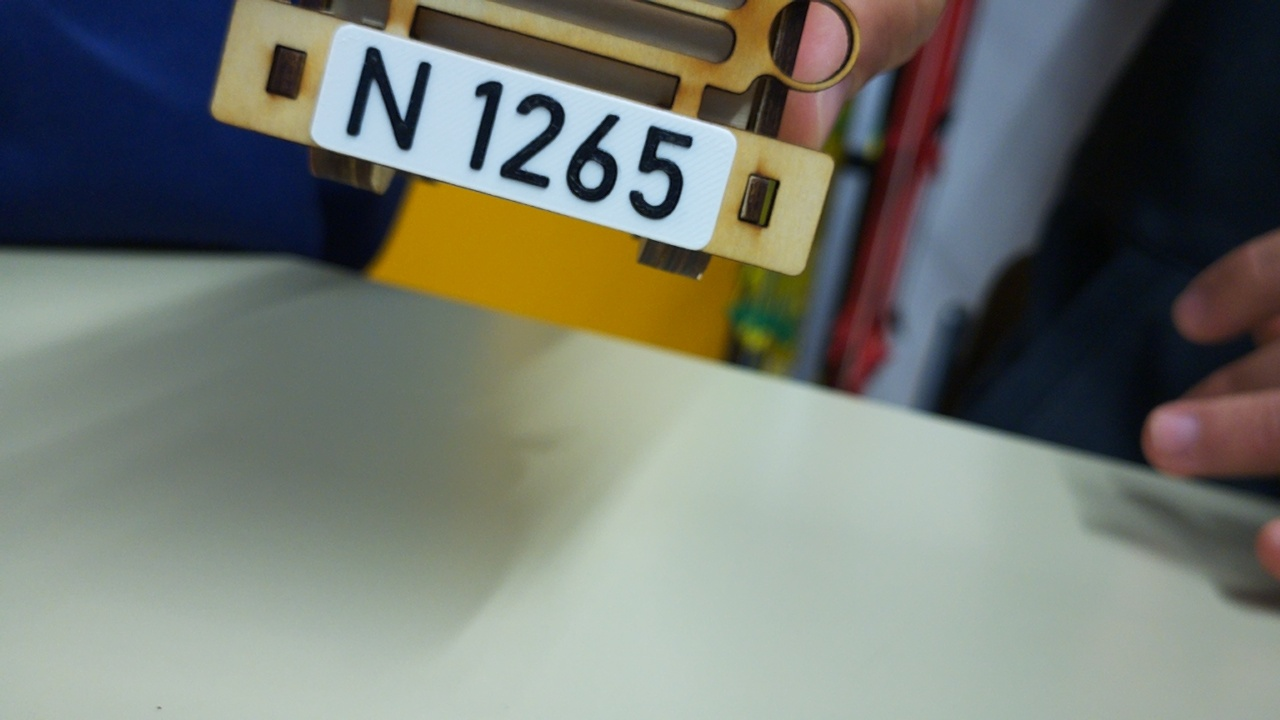license_plate: (308, 21, 741, 253)
